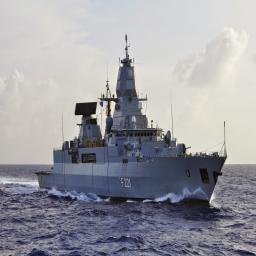Fragata: (1, 30, 152, 209)
